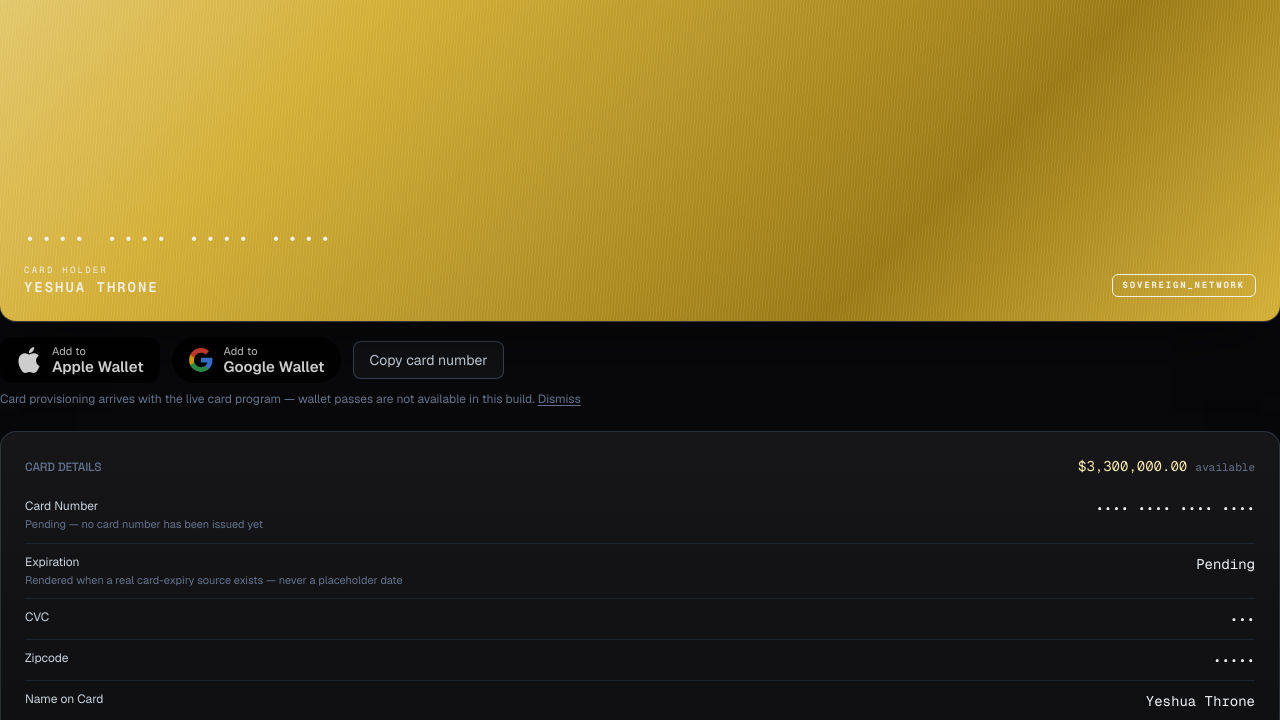
GoldNote actions — honest interactivity › closes the dialog via the close button and returns focus to the badge
(page scrolled)
What coordinates should you click on to do the following:
click the button with test id "goldnote-wallet-apple"
I would click on:
 (80, 360)
Its box is [0, 337, 160, 383].
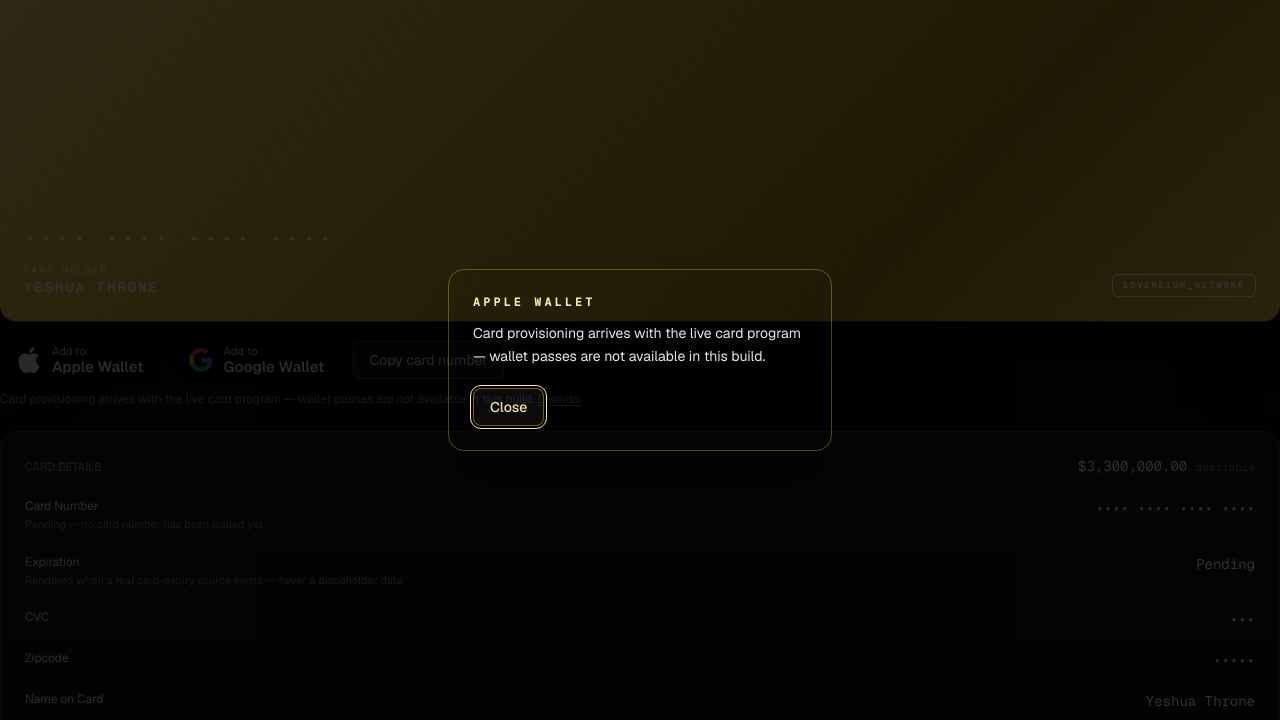
What coordinates should you click on to do the following:
click the button with test id "goldnote-wallet-dialog-close"
I would click on:
 (509, 407)
Its box is [473, 388, 544, 426].
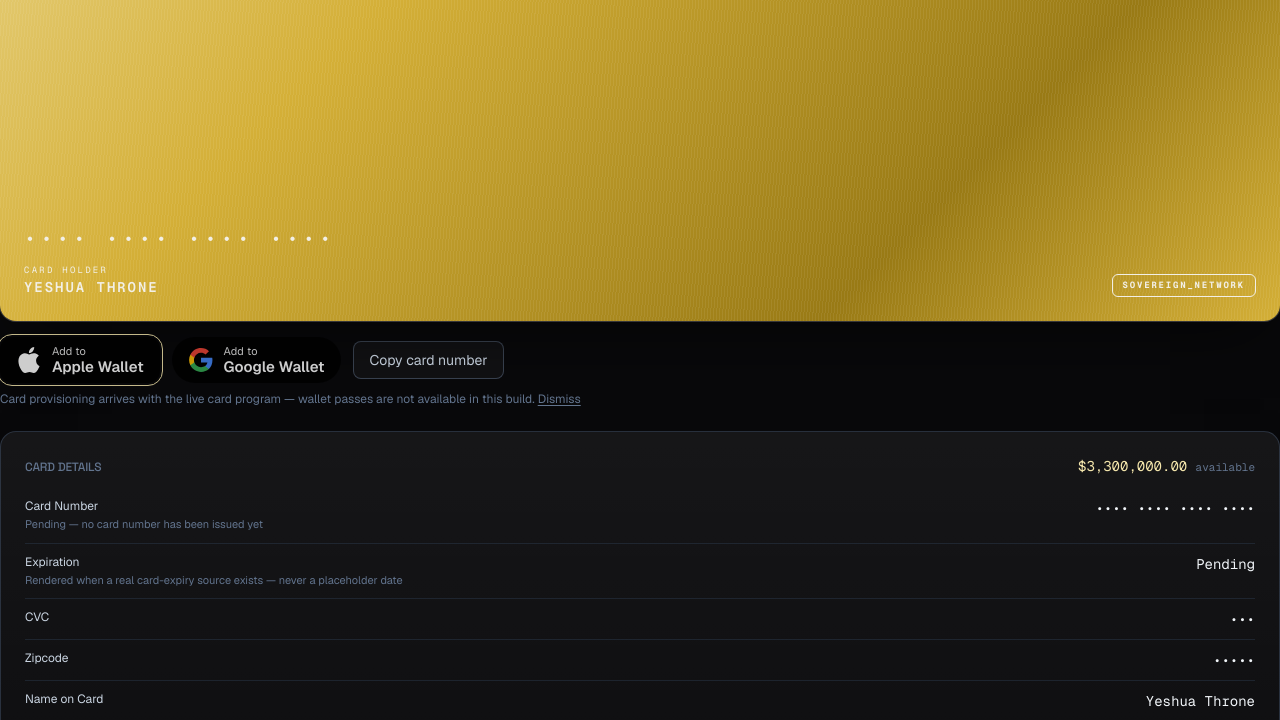
Result: the dialog is gone
